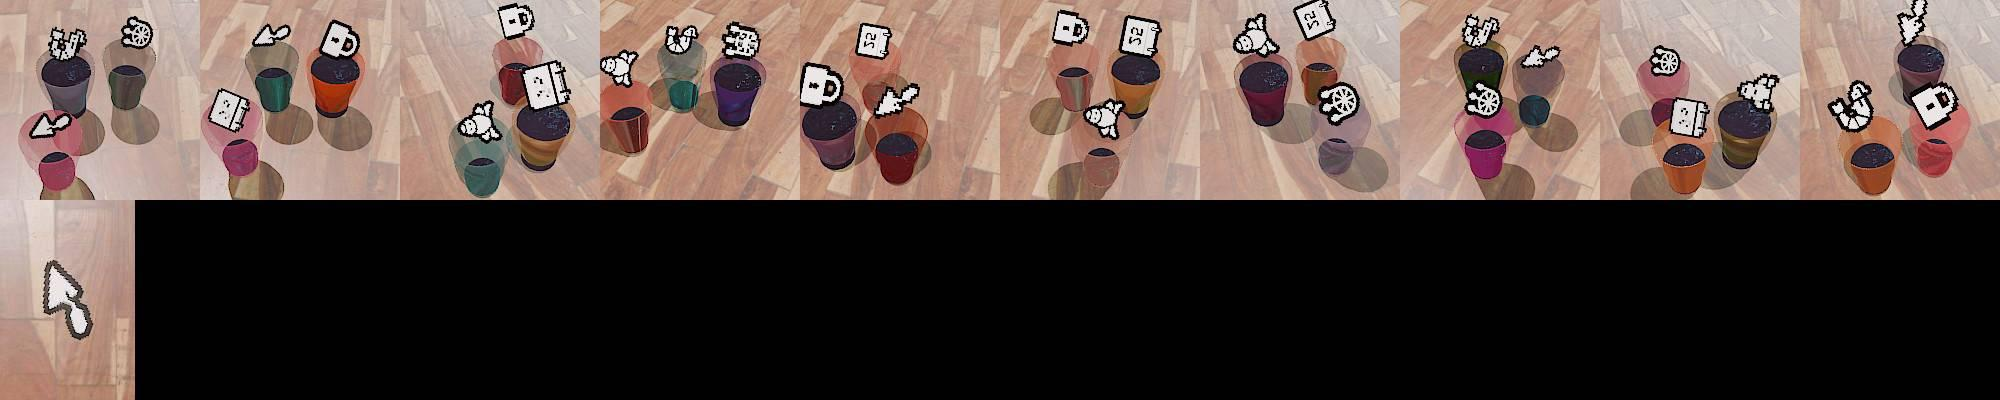icon: (41, 259, 98, 341), (520, 59, 571, 111), (1828, 78, 1876, 132), (1909, 82, 1958, 130), (1235, 11, 1281, 59), (798, 61, 844, 107), (457, 98, 503, 143), (207, 87, 250, 134), (871, 79, 921, 118), (1316, 82, 1360, 126), (1117, 15, 1161, 60), (318, 19, 362, 61), (1292, 0, 1337, 42), (1737, 73, 1781, 113), (1668, 97, 1710, 138), (598, 48, 639, 88), (47, 24, 89, 62), (722, 20, 761, 60), (1051, 9, 1091, 47), (855, 22, 893, 61), (1464, 80, 1503, 118), (1462, 13, 1501, 50), (496, 3, 536, 39), (1897, 1, 1929, 46), (28, 110, 73, 139), (1084, 99, 1122, 130), (663, 23, 699, 55), (251, 22, 293, 48), (1518, 43, 1561, 69), (121, 15, 153, 50), (1649, 45, 1681, 76)
